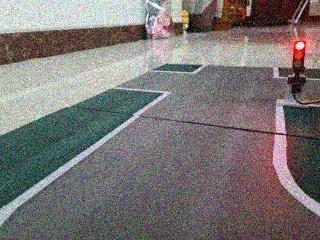red: (287, 36, 308, 76)
